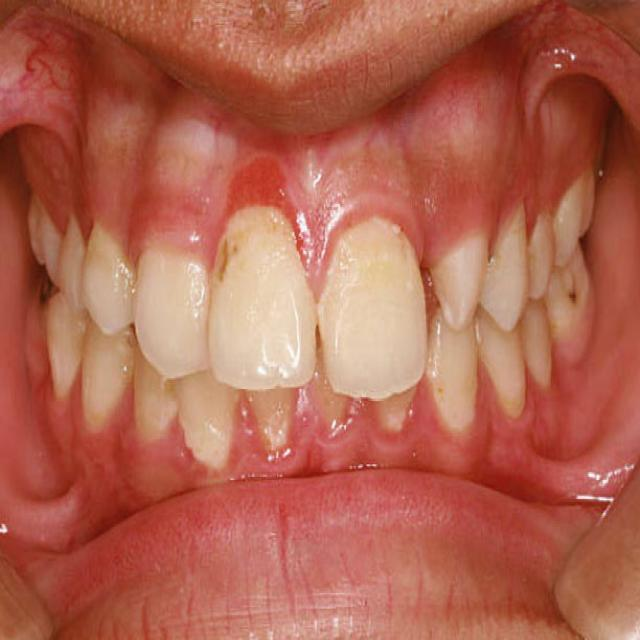caries: (36, 268, 64, 315), (561, 262, 586, 314), (218, 234, 240, 279)
